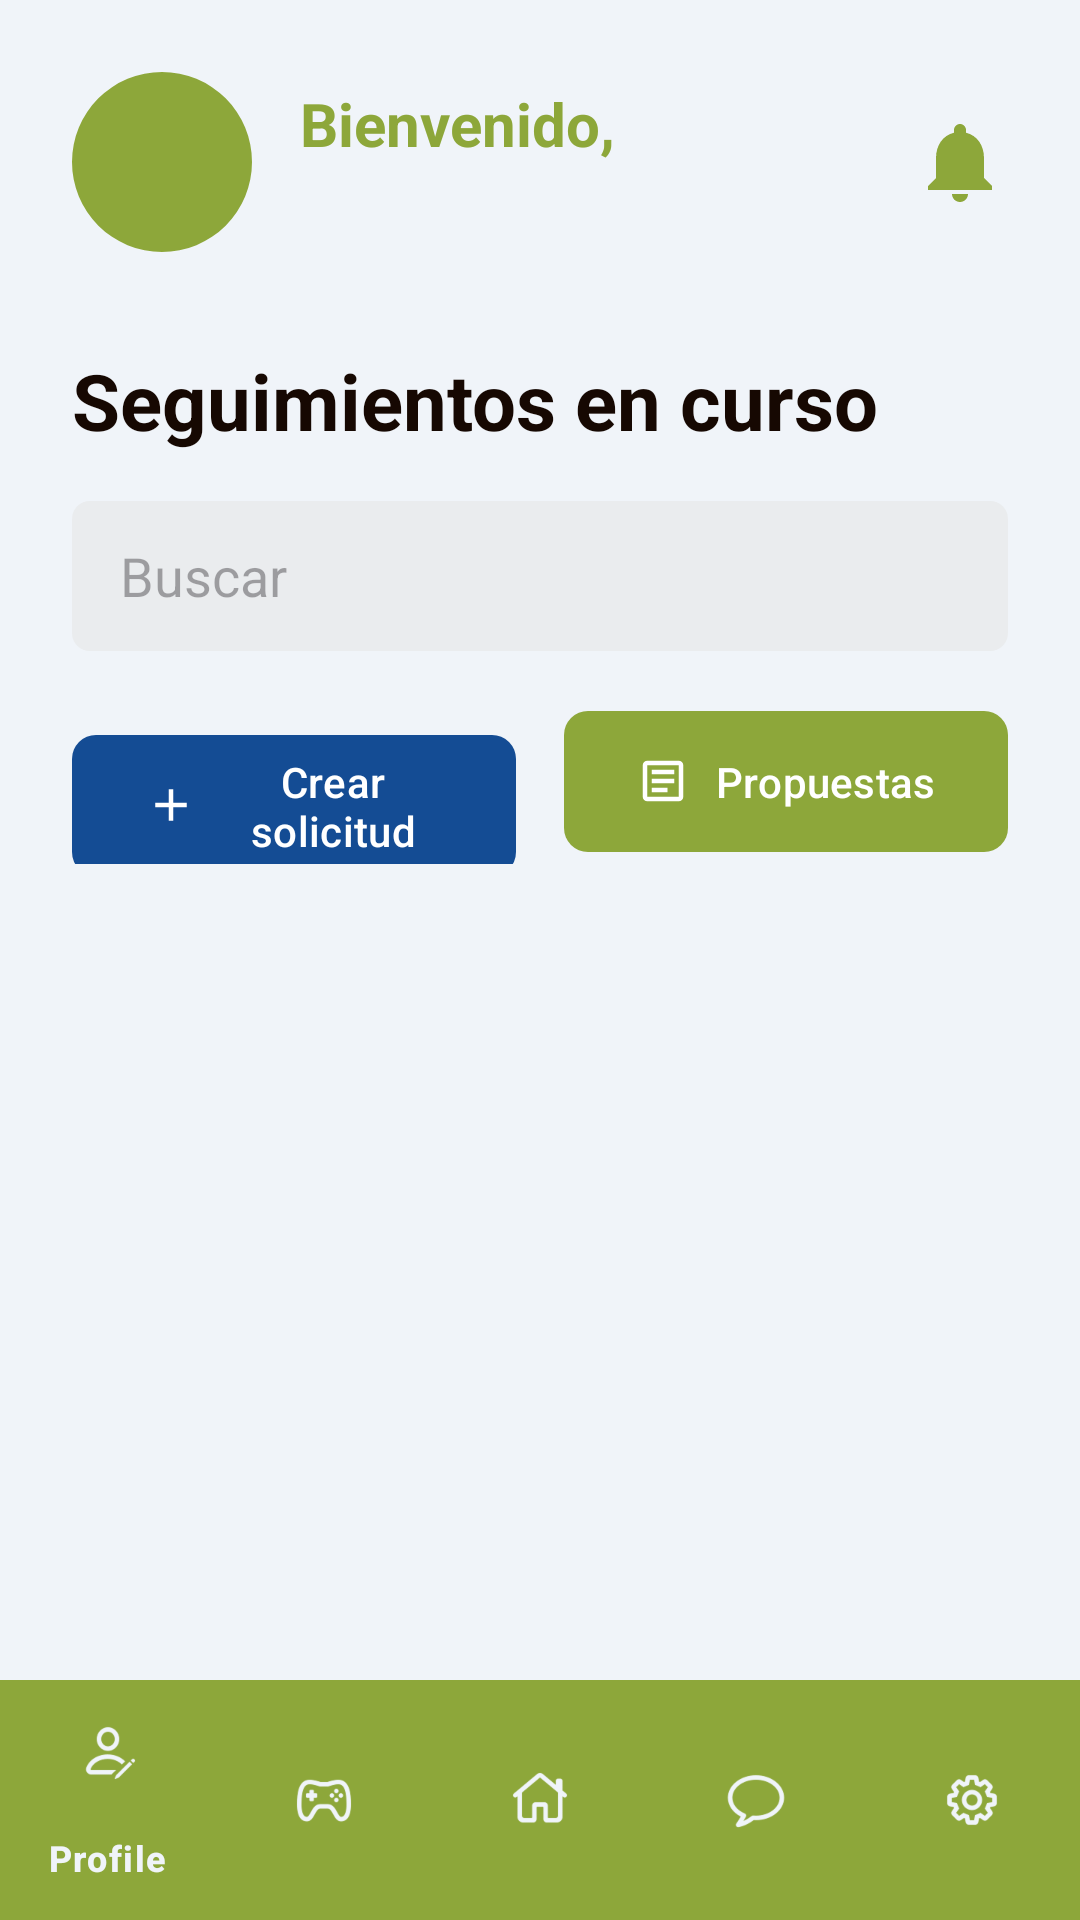

Icons on this 1080x1920 Android screen, each with the point to tap as point (x, y):
campana: point (960, 163)
